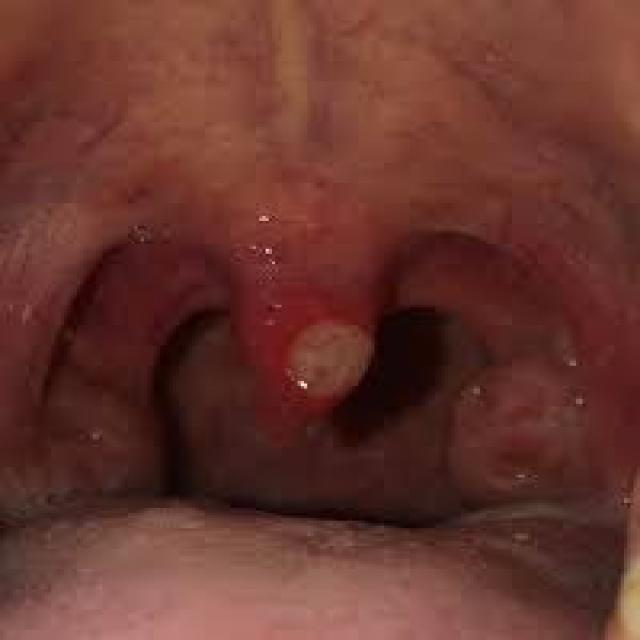processing_area: (6, 0, 637, 637)
ulcer-detection: (262, 288, 387, 435)
